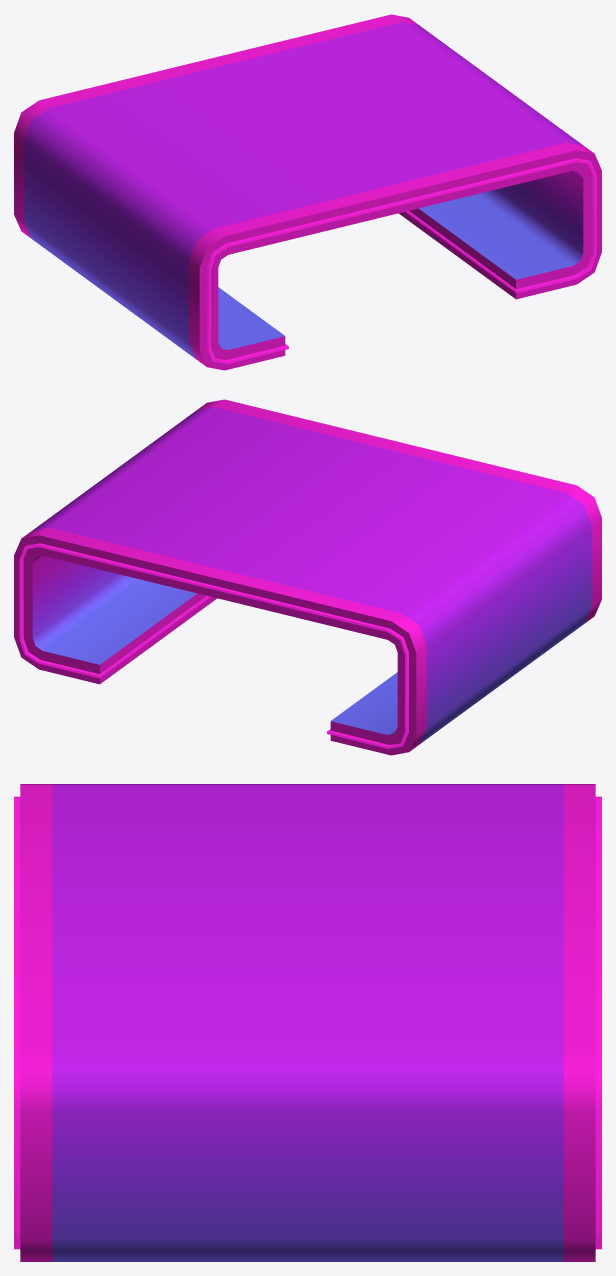
Rendered from coffee_table.gltf.
3 renders of one model, top to bottom at view 1: azimuth 30°, elevation 25°; view 2: azimuth 150°, elevation 25°; view 3: azimuth 270°, elevation 25°, orthographic. The views are drawn at different scales.
Visible parts, largest first — view 1: Plane.017, Plane.018; view 2: Plane.017, Plane.018; view 3: Plane.017, Plane.018.
Boxes of the visible parts, left/top/right/bottom form: Plane.017: left=14, top=14, right=601, bottom=370; Plane.018: left=207, top=158, right=596, bottom=363; Plane.017: left=14, top=399, right=601, bottom=755; Plane.018: left=19, top=543, right=408, bottom=748; Plane.017: left=20, top=784, right=595, bottom=1261; Plane.018: left=14, top=796, right=601, bottom=1249.
Size of what is drawn, in the model's own units: 1.46 by 0.467 by 1.19.
Materials: 2 (2 with a texture image).
